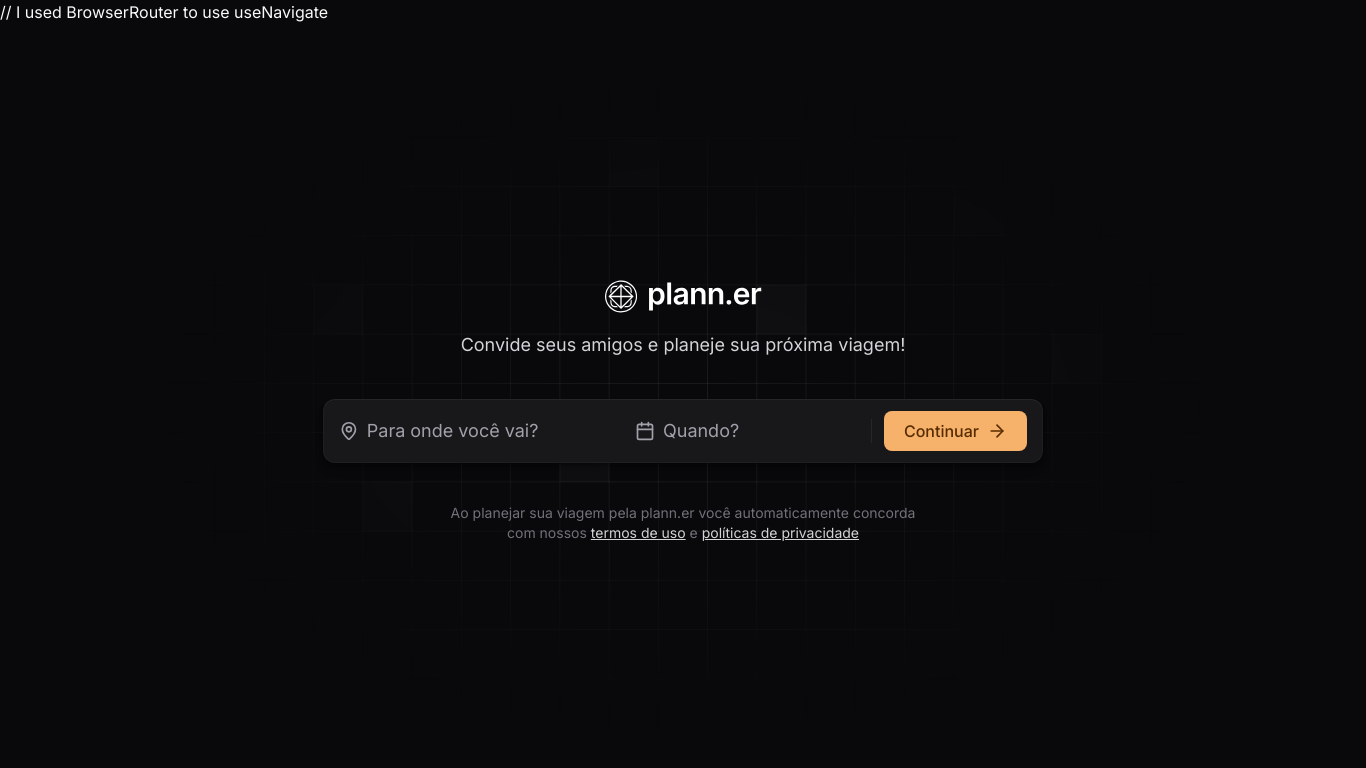
Create Trip Page › open modal to finish trip
This screenshot has width=1366, height=768.
Click the button "Continuar" at (956, 430), box [884,410,1027,450]
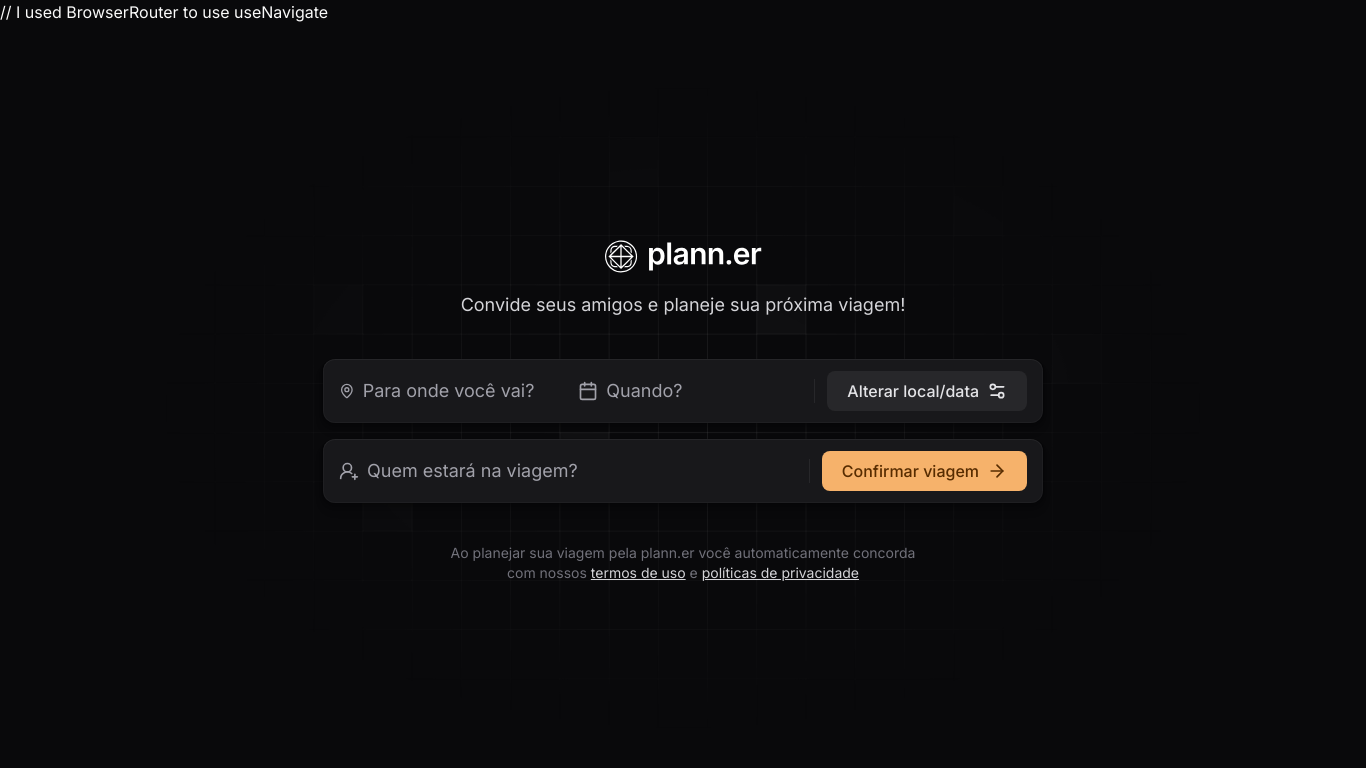
Check: the button "Confirmar viagem" is shown
Click the button "Confirmar viagem" at (924, 470), box [822,450,1027,490]
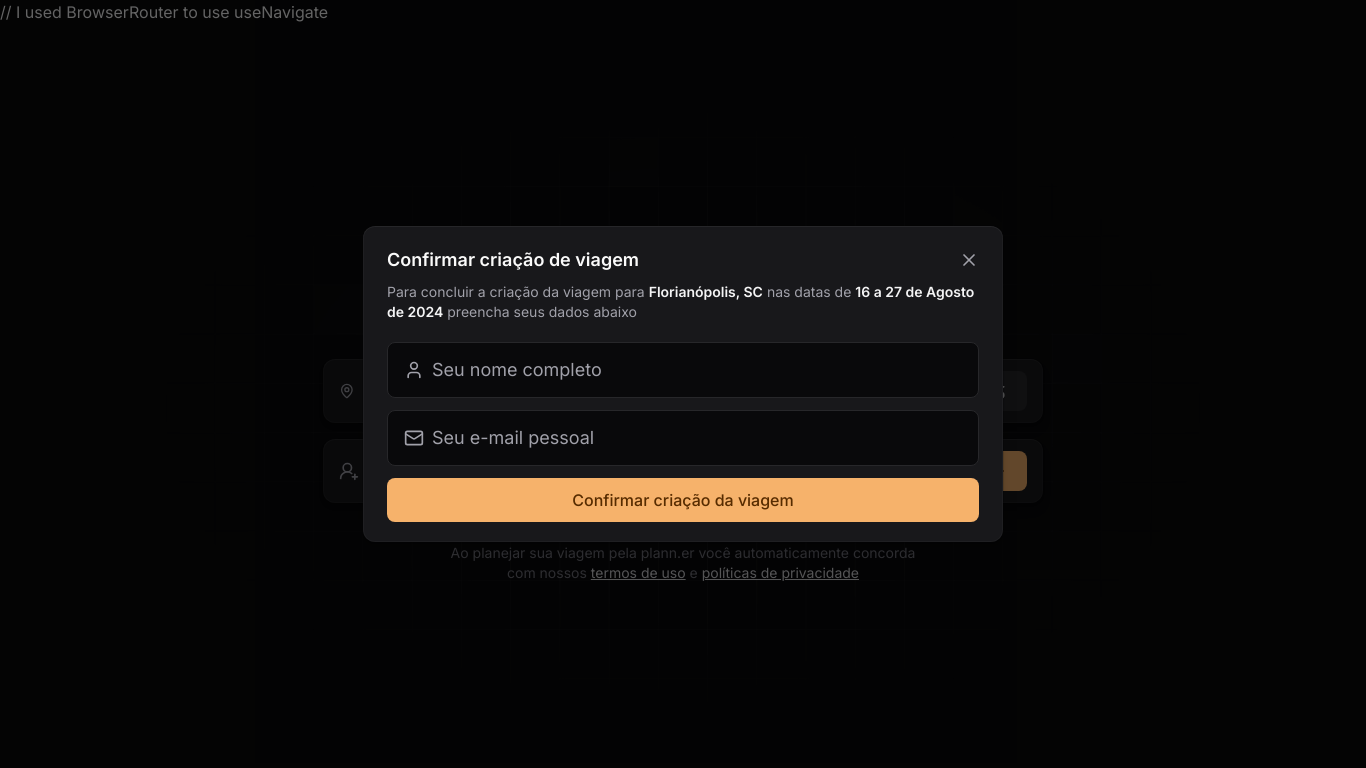
Check: the heading "Confirmar criação de viagem" is shown, box [387,246,639,274]
